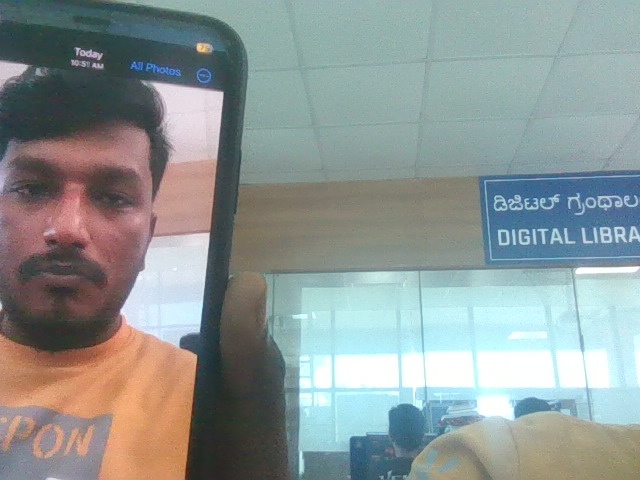fake: (0, 30, 231, 358)
